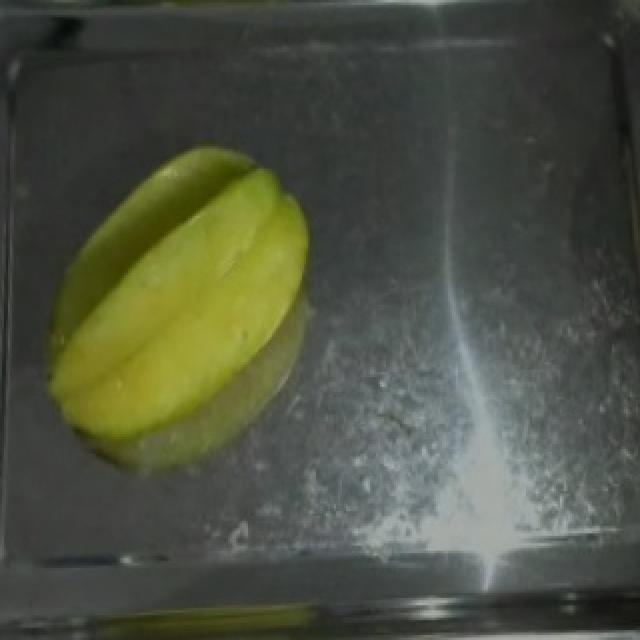fruit: (28, 129, 334, 479)
